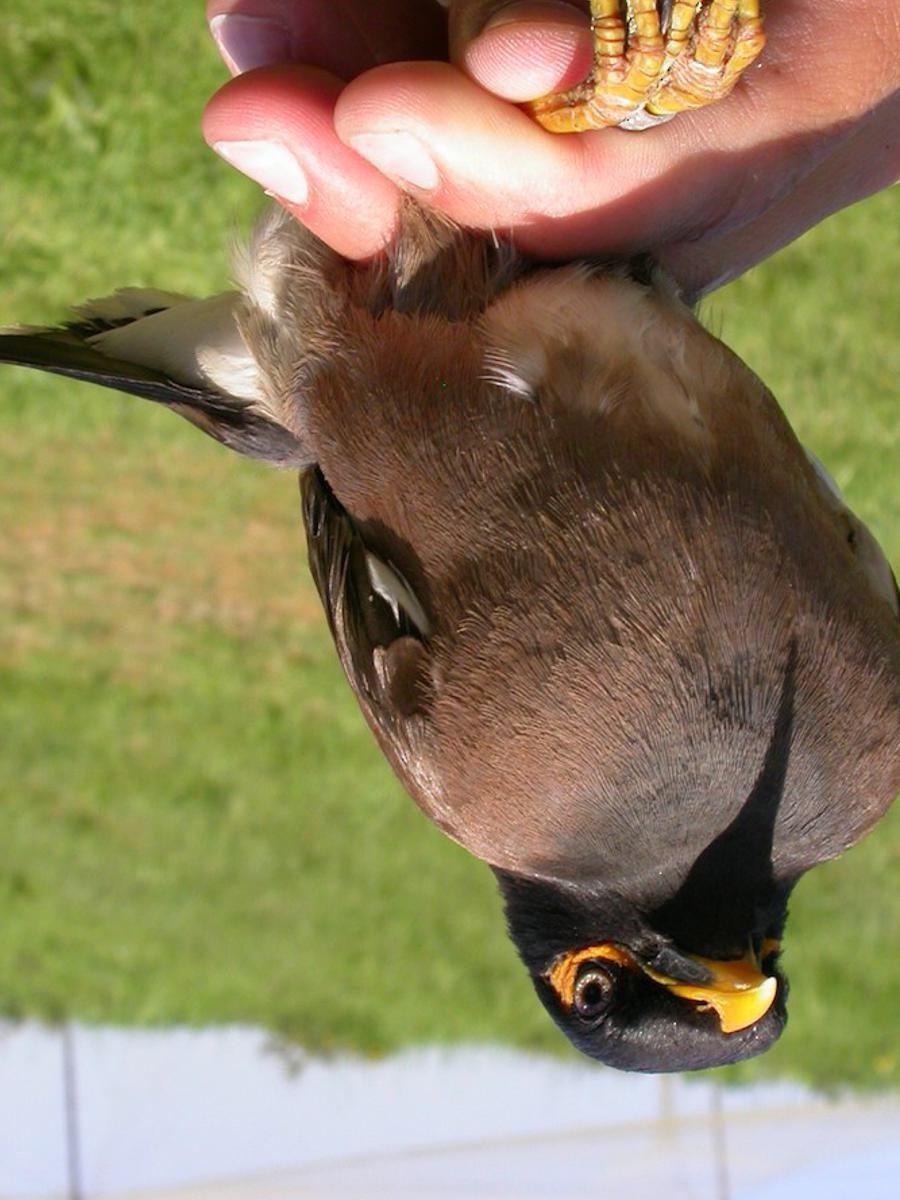myna: (120, 149, 900, 1115)
